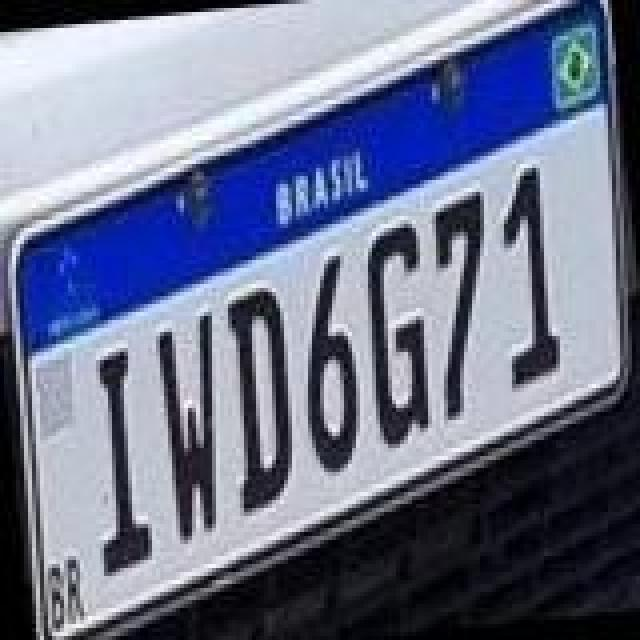1: (488, 156, 568, 388)
6: (286, 252, 370, 484)
7: (418, 184, 510, 424)
D: (218, 282, 302, 518)
G: (358, 220, 442, 452)
I: (80, 342, 160, 578)
W: (150, 306, 234, 542)
